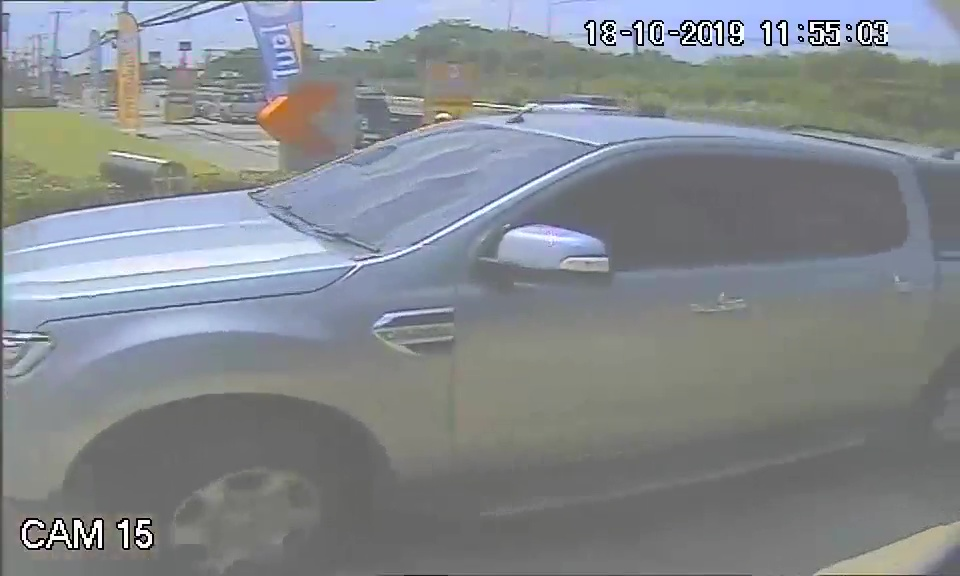pickup: (5, 109, 934, 507)
